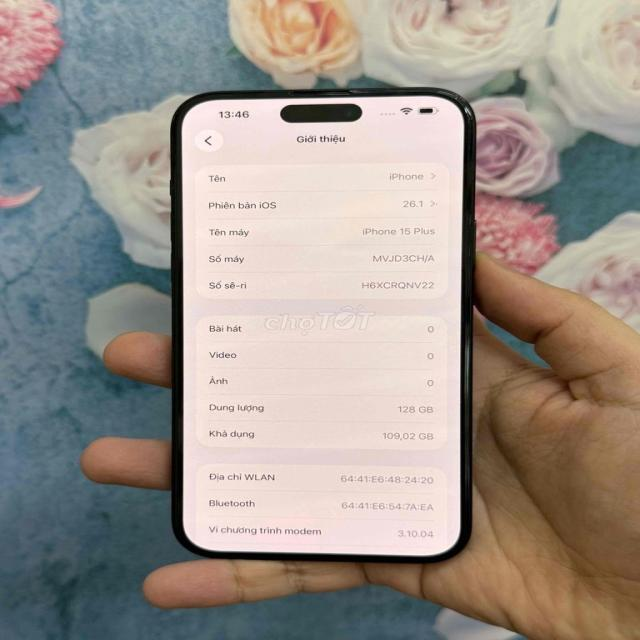gen_15: (155, 84, 488, 572)
